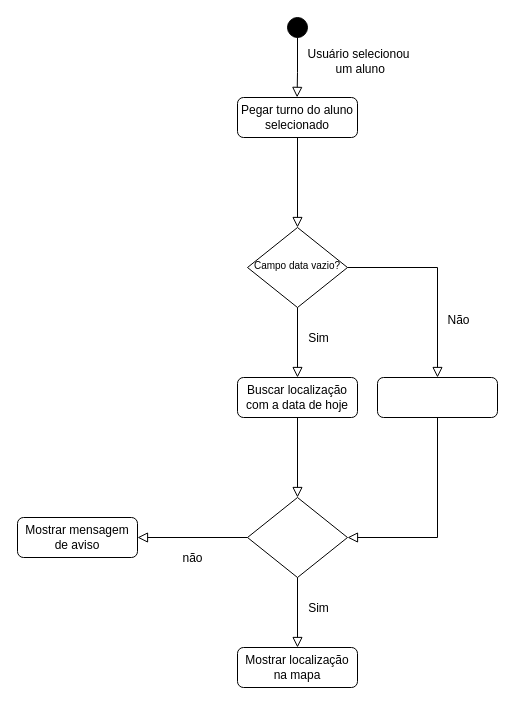
This 515x705 diagram has some shape labels left out. Each missing label, with the centre of its shape:
"Buscar localização com a data do usuário" belongs at point (437, 397).
"Localização existe?" belongs at point (297, 537).
